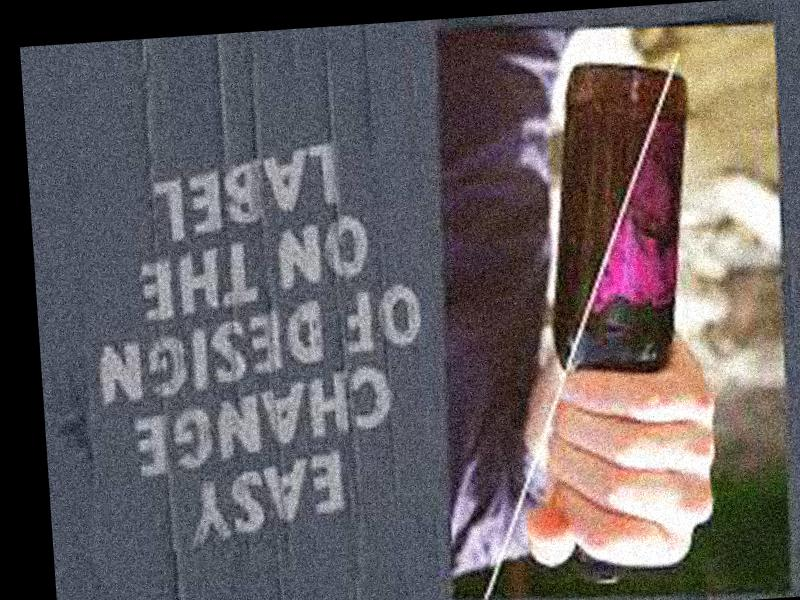Beer: (533, 58, 713, 581)
